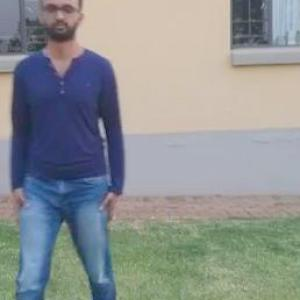follow: (3, 0, 118, 299)
